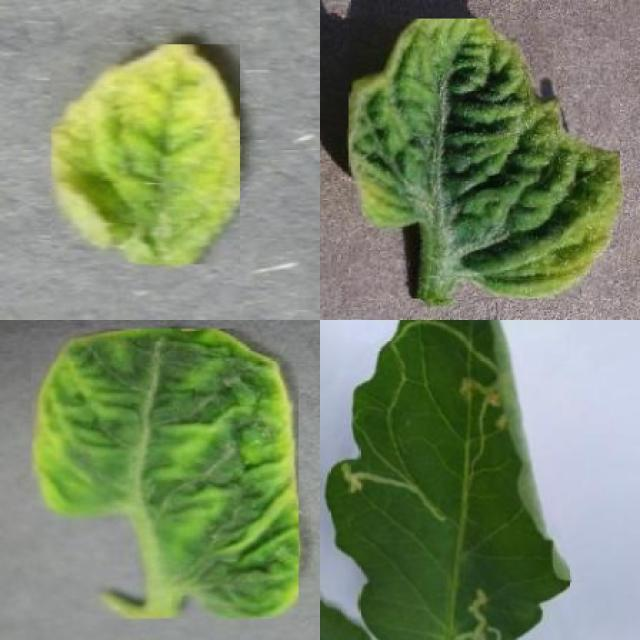Leaf Miner: (324, 320, 570, 640)
Yellow Leaf Curl Virus: (32, 328, 298, 618), (349, 18, 620, 298), (51, 45, 240, 265)
